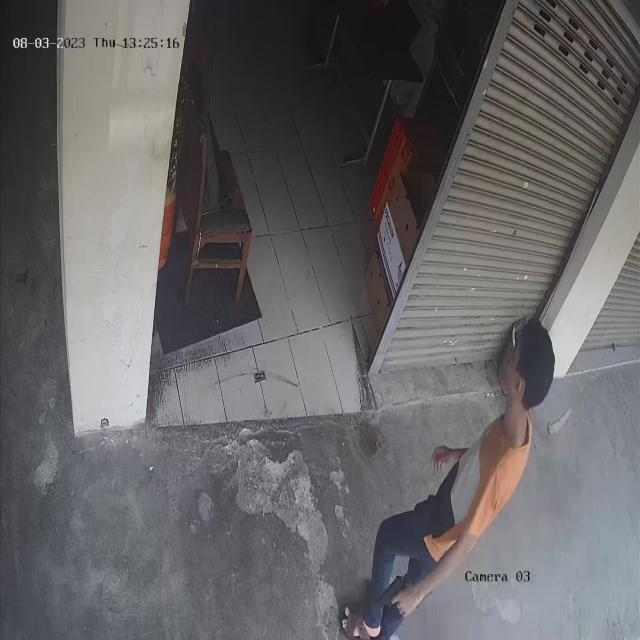Gun: (357, 558, 418, 612)
